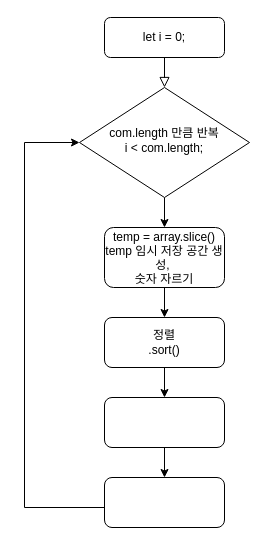
Some shapes in this 267 by 545 pixel diagram are drawn without their labels. The shapes that lost their labels are listed below. From the top down, each one's box as (x1, y1, x2, y2) in pixels, then its label:
(104, 396, 224, 448): ~번째 숫자 뽑기 .push()
(104, 476, 224, 528): i++
